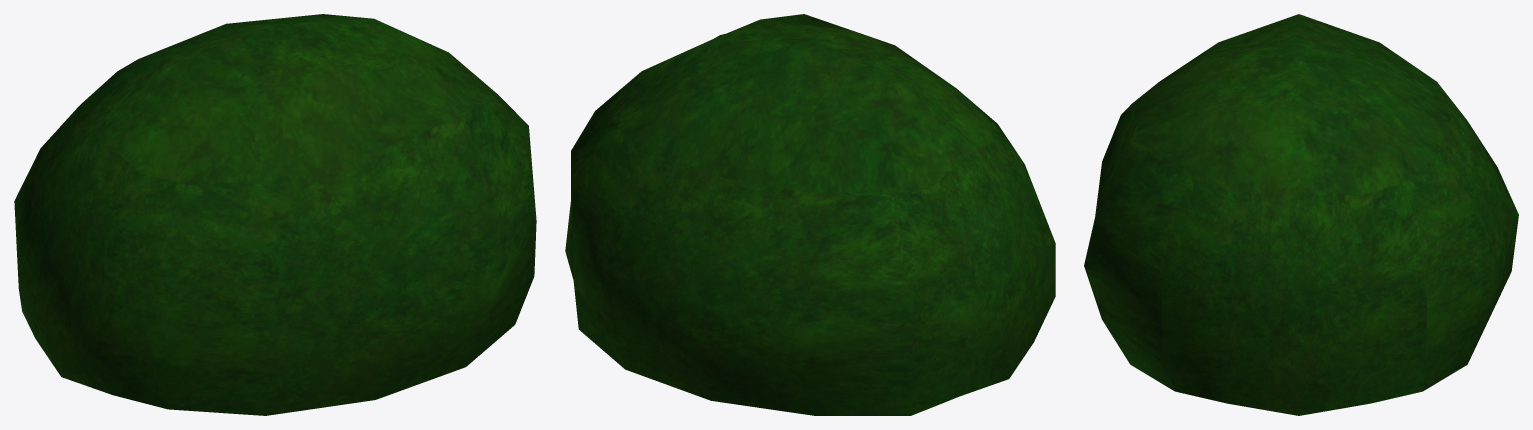
The model's file is Bush.fbx.
The picture shows the model from 3 angles, left to right: view 1: azimuth 30°, elevation 25°; view 2: azimuth 150°, elevation 25°; view 3: azimuth 270°, elevation 25°; orthographic projection. The views are drawn at different scales.
Visible parts, largest first — view 1: pCube1; view 2: pCube1; view 3: pCube1.
Boxes of the visible parts, left/top/right/bottom form: pCube1: left=14, top=14, right=536, bottom=415; pCube1: left=565, top=14, right=1055, bottom=415; pCube1: left=1084, top=14, right=1518, bottom=415.
Size of the model in its own units: 225 by 144 by 206.
